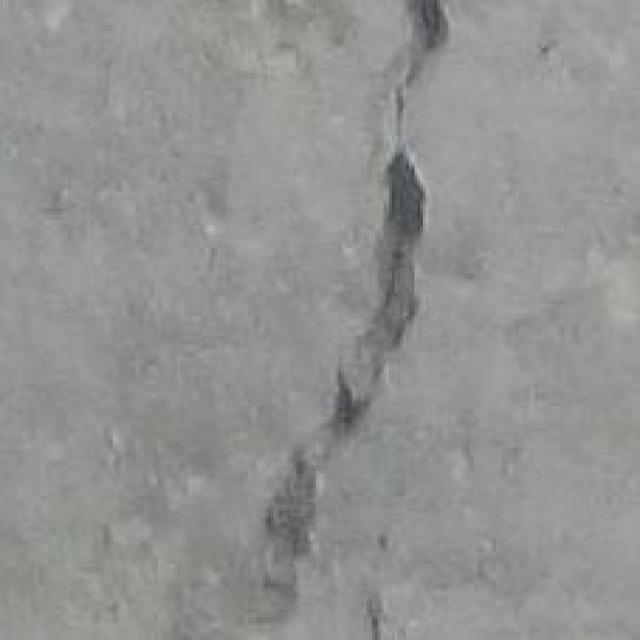Crack: (257, 0, 448, 595), (364, 589, 383, 637)
